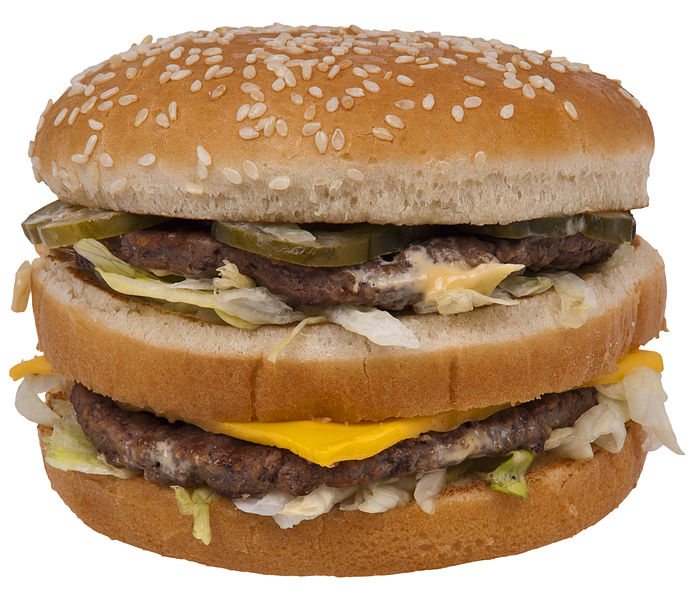hamburger: (13, 60, 685, 583)
